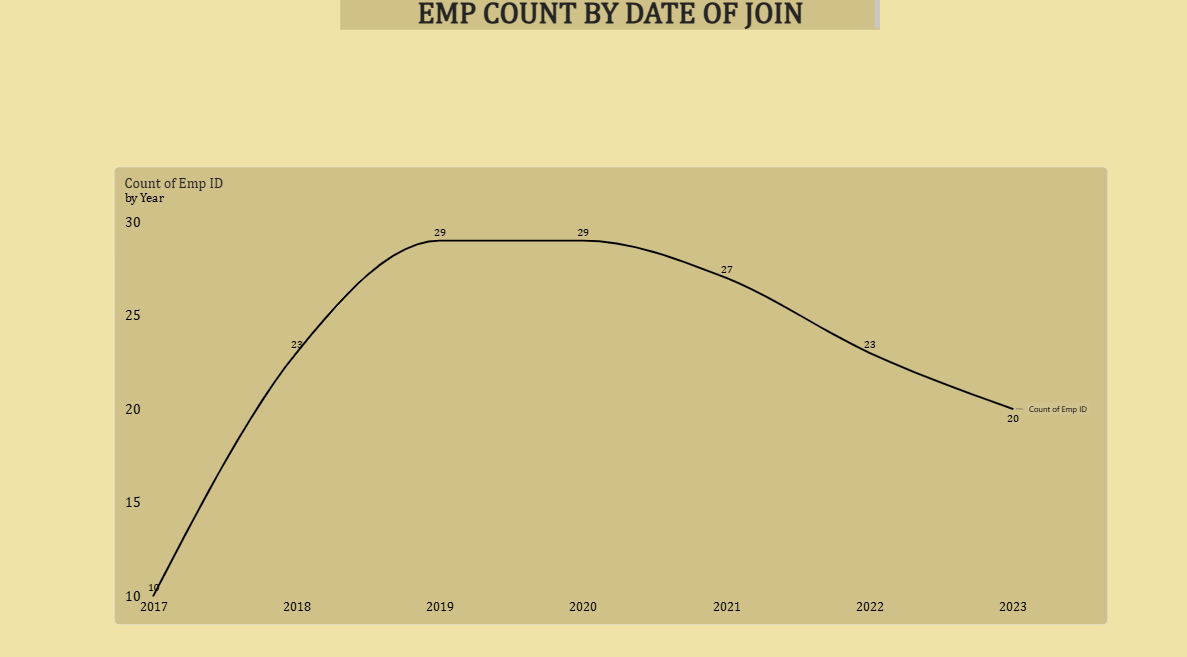

This screenshot's page, from the dashboard's own definition file:
{"tool":"powerbi","page":{"name":"EMP COUNT BY DATE OF JOIN","canvas":[1920,1080],"ordinal":5},"visuals":[{"type":"textbox","box":[562.8,21.7,863.2,52.5],"z":0},{"type":"lineChart","fields":{"Category":["data.Date of Join.Variation.Date Hierarchy.Year"],"Y":["CountNonNull(data.Emp ID)"]},"box":[199.1,295,1590.7,732.9],"z":1}]}

Visuals, with their boxes in screenshot pixels (x1, y1, x2, y2), scaled from the page's 1920x1080 canvas onto the 1187x657 screenshot:
textbox: {"left": 348, "top": 13, "right": 882, "bottom": 45}
lineChart - data.Date of Join.Variation.Date Hierarchy.Year x CountNonNull(data.Emp ID): {"left": 123, "top": 179, "right": 1107, "bottom": 625}
